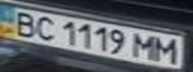1: (54, 18, 78, 46), (90, 24, 112, 53), (72, 21, 93, 50)
9: (106, 26, 130, 56)
B: (6, 9, 42, 37)
C: (30, 13, 60, 42)
M: (151, 35, 184, 64), (130, 32, 160, 61)
